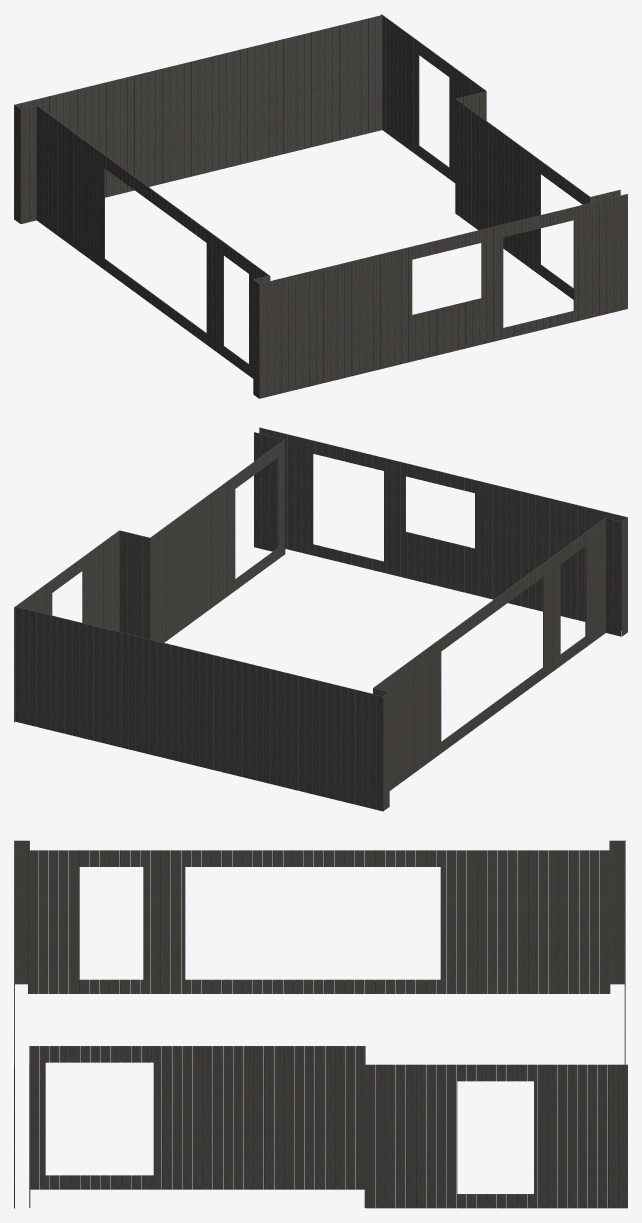
The model's file is EG_Fassade.gltf.
3 views of the same model, one above another, from view 1: azimuth 30°, elevation 25°; view 2: azimuth 150°, elevation 25°; view 3: azimuth 270°, elevation 25° (orthographic). The views are drawn at different scales.
Visible parts, largest first — view 1: holzfassade.029, holzfassade.034, holzfassade.037, holzfassade.032, holzfassade.030, holzfassade.036, holzfassade.039, holzfassade.035; view 2: holzfassade.029, holzfassade.034, holzfassade.037, holzfassade.032, holzfassade.030, holzfassade.031, holzfassade.033, holzfassade.038, holzfassade.035, holzfassade.039; view 3: holzfassade.037, holzfassade.032, holzfassade.030, holzfassade.039, holzfassade.035.
Part boxes in pixels (x1,y1,x2,y2): holzfassade.029: [14, 15, 382, 219]; holzfassade.034: [259, 194, 627, 398]; holzfassade.037: [36, 105, 270, 378]; holzfassade.032: [455, 98, 590, 299]; holzfassade.030: [381, 14, 486, 182]; holzfassade.036: [21, 105, 36, 223]; holzfassade.039: [14, 105, 21, 223]; holzfassade.035: [253, 279, 259, 398]; holzfassade.029: [15, 607, 383, 811]; holzfassade.034: [259, 427, 627, 630]; holzfassade.037: [373, 517, 606, 790]; holzfassade.032: [149, 439, 284, 642]; holzfassade.030: [14, 530, 119, 722]; holzfassade.031: [119, 530, 149, 639]; holzfassade.033: [254, 432, 285, 554]; holzfassade.038: [606, 518, 621, 636]; holzfassade.035: [621, 517, 627, 636]; holzfassade.039: [383, 692, 389, 810]; holzfassade.037: [28, 850, 609, 993]; holzfassade.032: [30, 1046, 364, 1189]; holzfassade.030: [365, 1064, 627, 1208]; holzfassade.039: [610, 840, 624, 984]; holzfassade.035: [14, 840, 28, 984].
Size of the model in its own units: 10.42 by 3.1 by 12.03.
2 materials, 2 textured.
